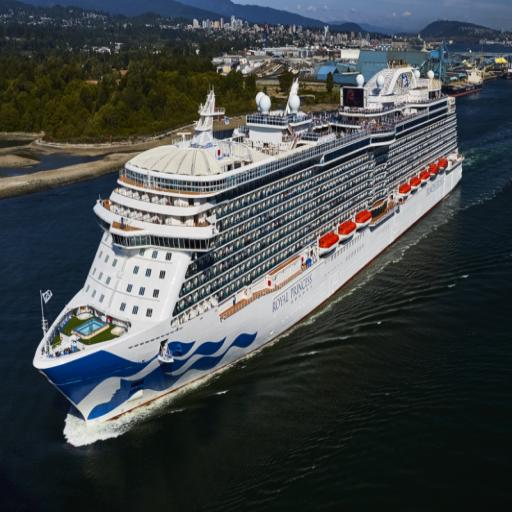cruises: (31, 58, 468, 439)
